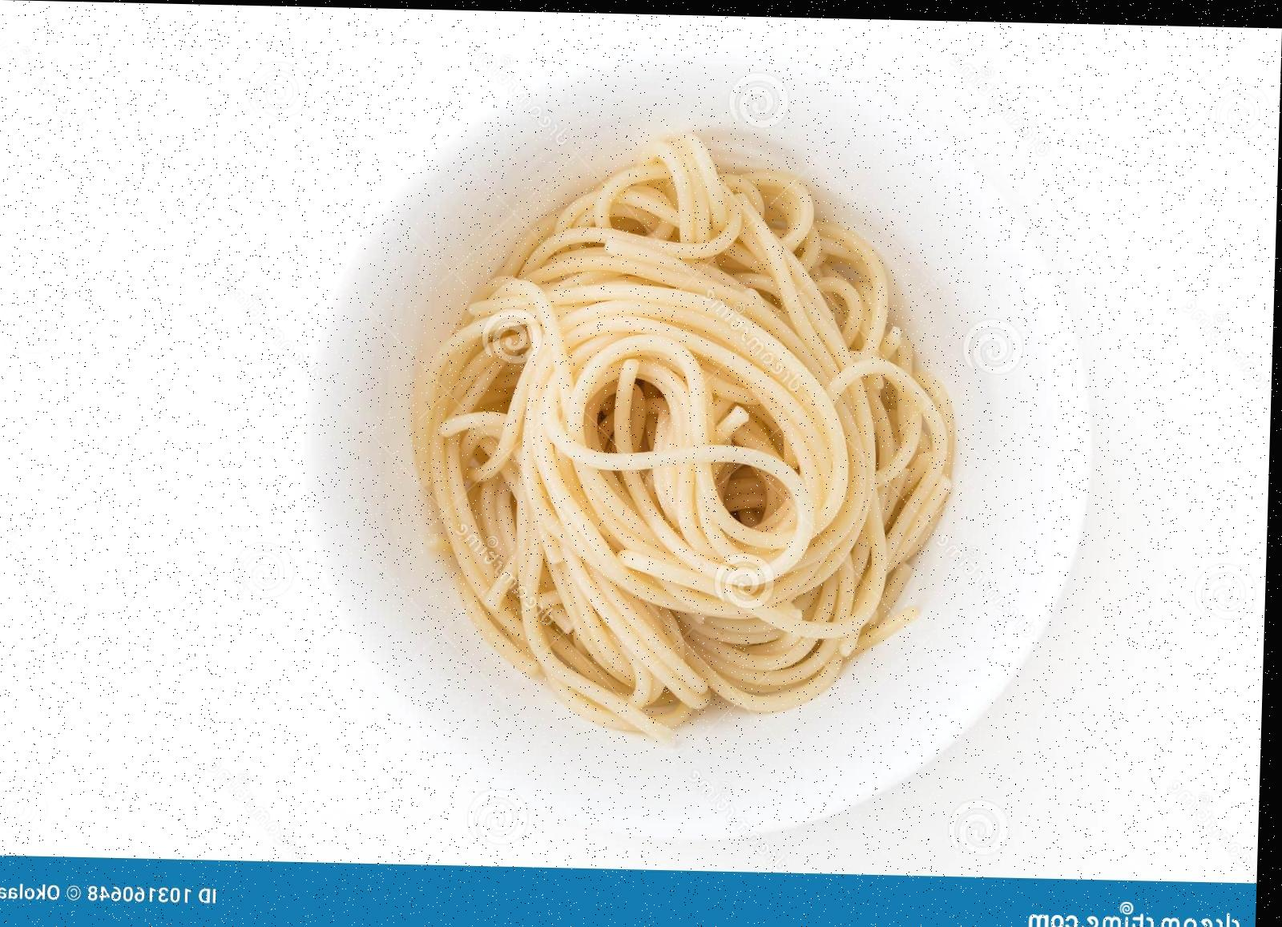pasta: (416, 135, 953, 741)
